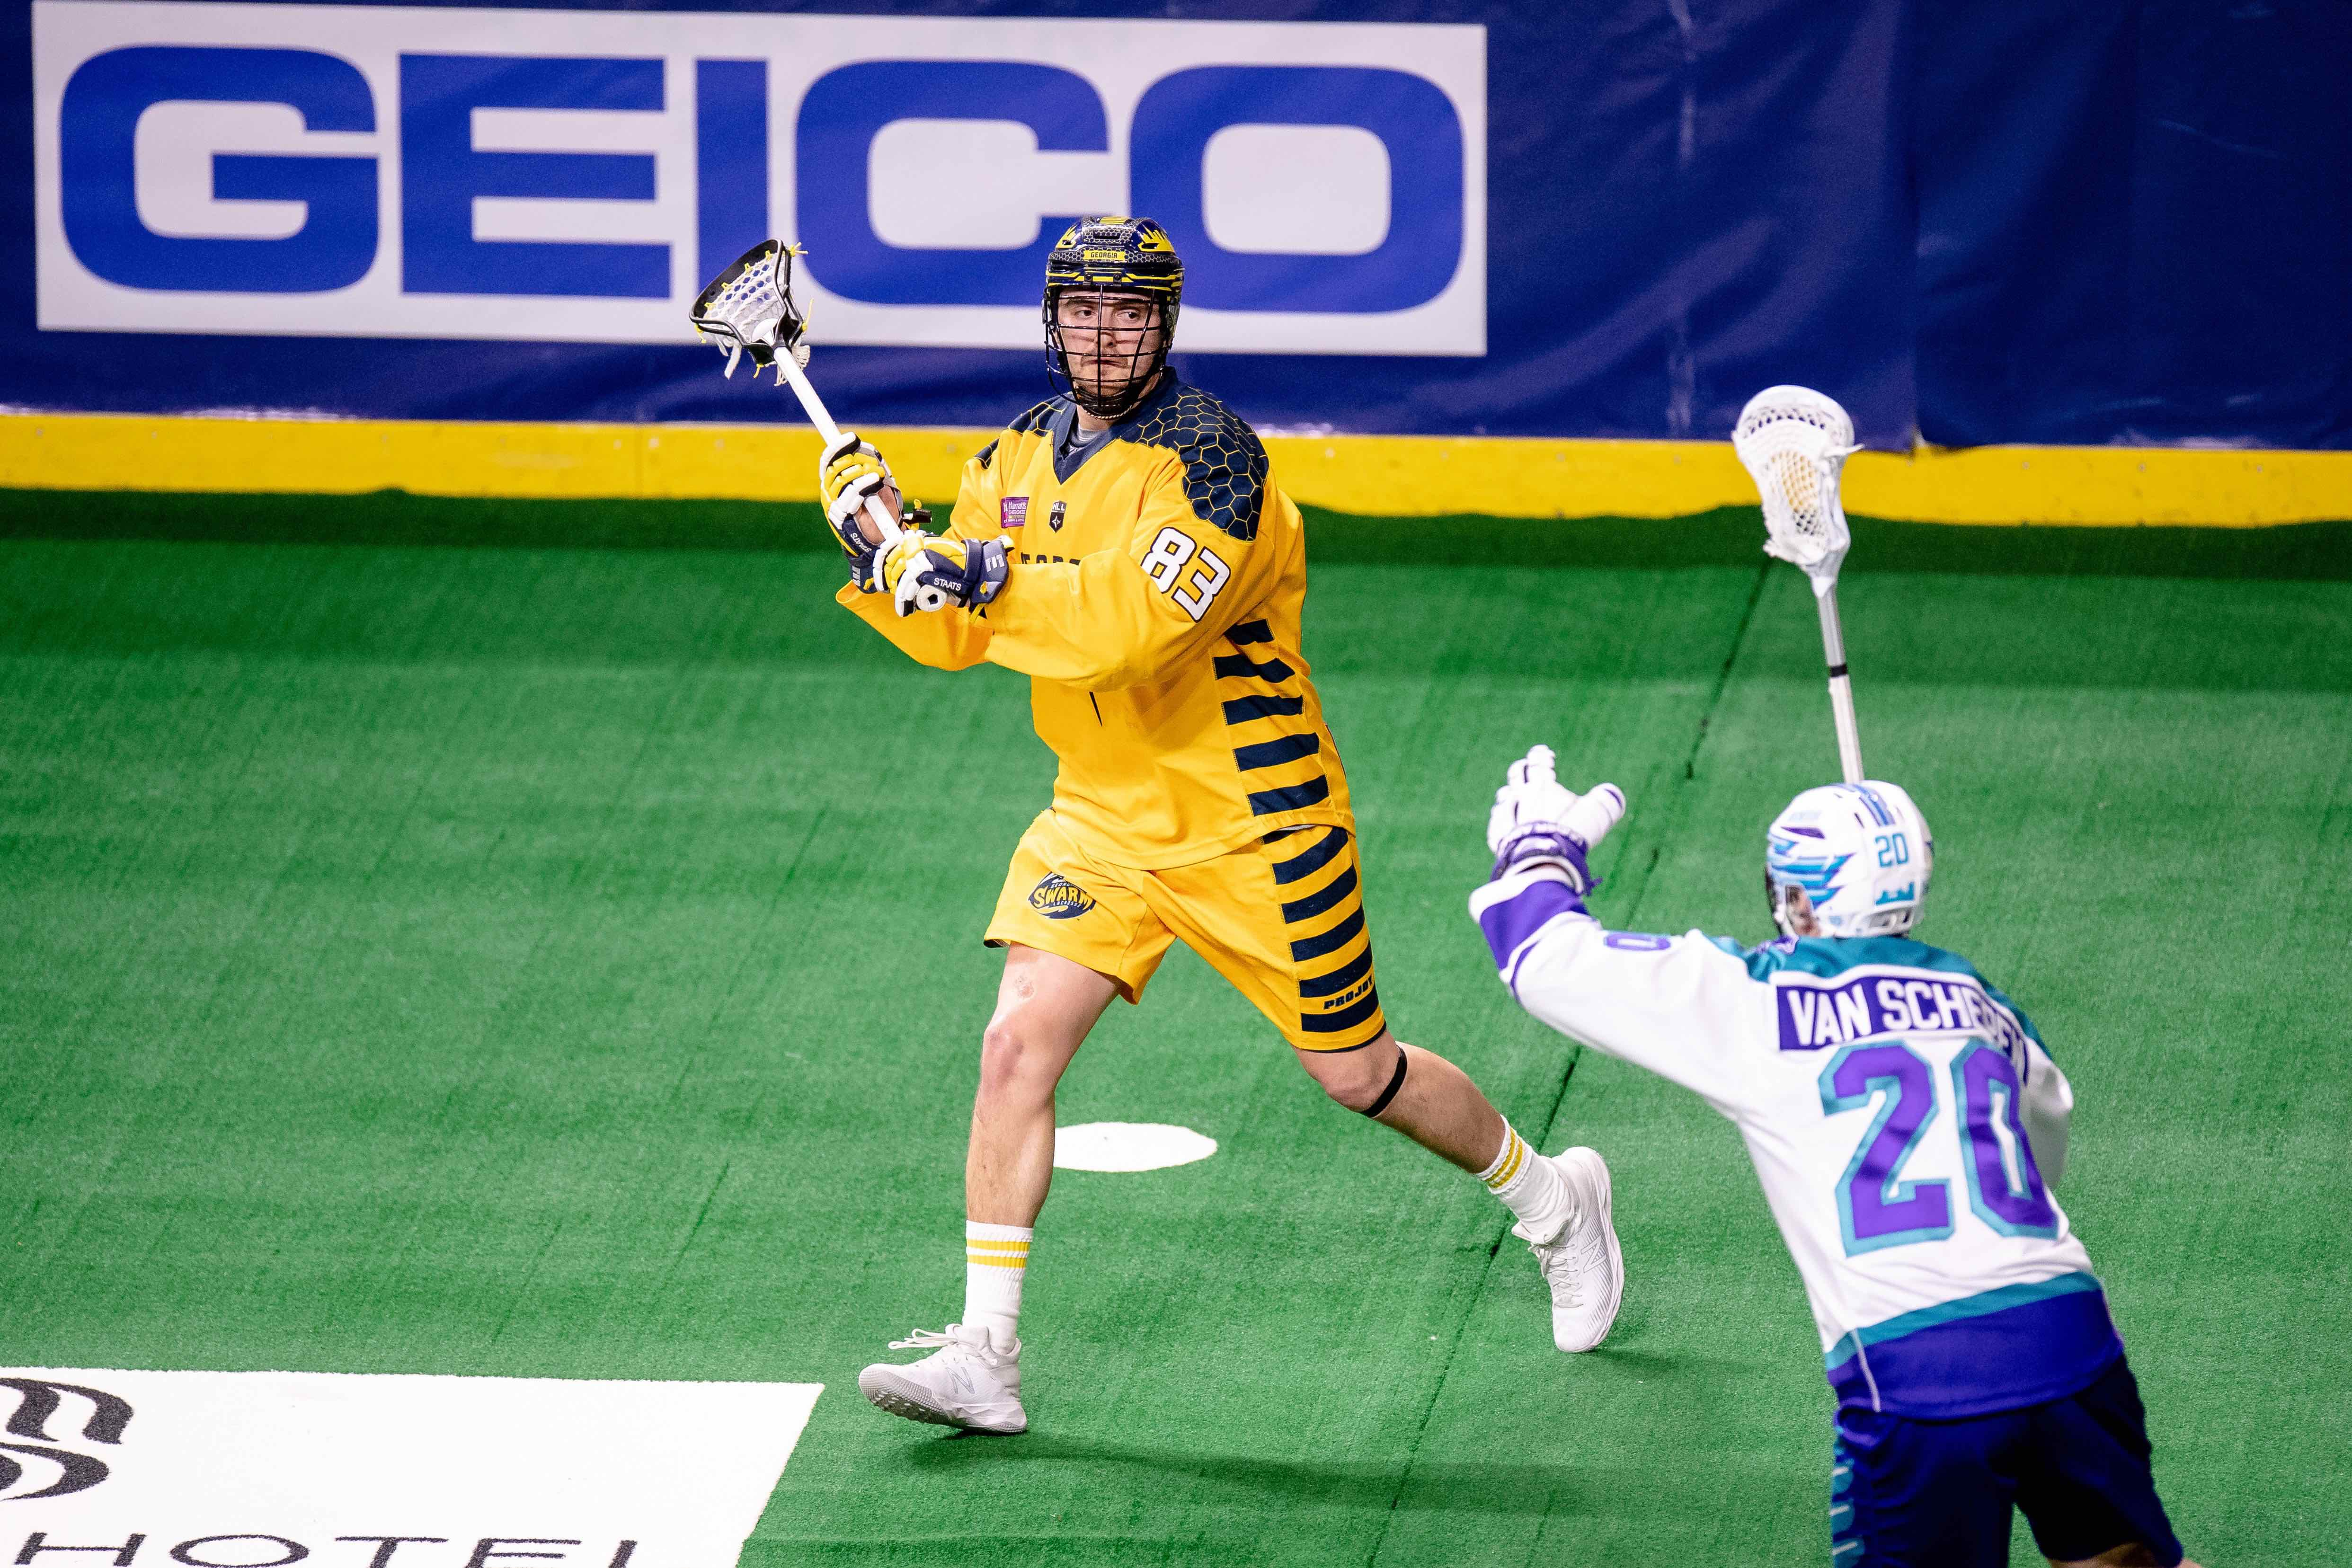Geico: (47, 19, 1494, 336)
